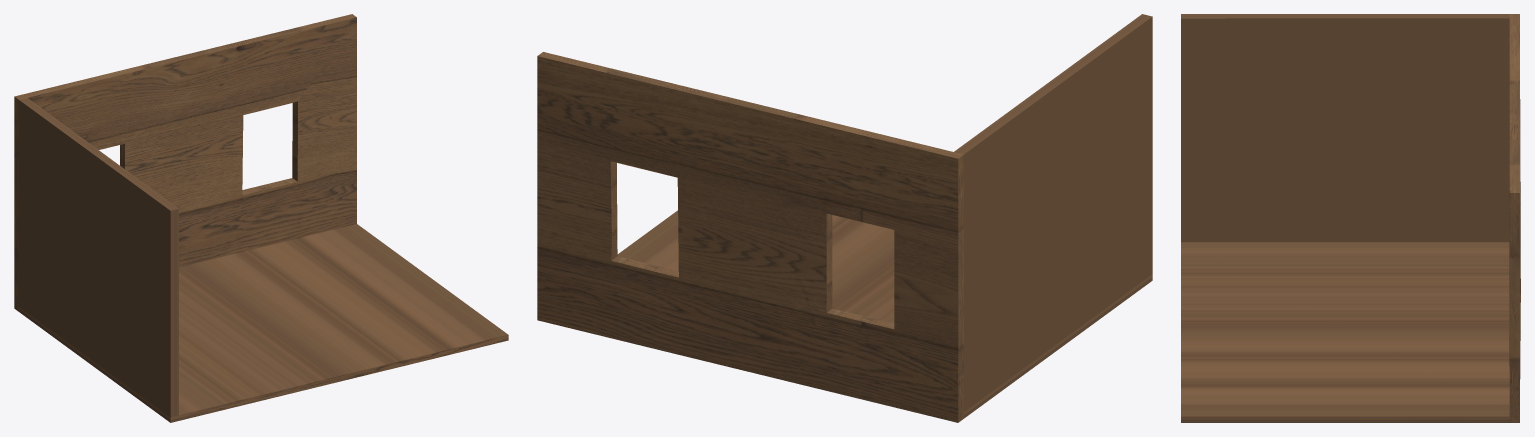
Rendered from house.glb.
3 views of the same model, side by side, from view 1: azimuth 30°, elevation 25°; view 2: azimuth 150°, elevation 25°; view 3: azimuth 270°, elevation 25° (orthographic). The views are drawn at different scales.
Visible parts, largest first — view 1: Cube; view 2: Cube; view 3: Cube.
Part boxes in pixels (<box>): Cube: <box>14,14,508,422</box>; Cube: <box>537,14,1152,422</box>; Cube: <box>1181,14,1520,422</box>.
Size of the model in its own units: 25.56 by 15.33 by 20.52.
1 material, 1 textured.
